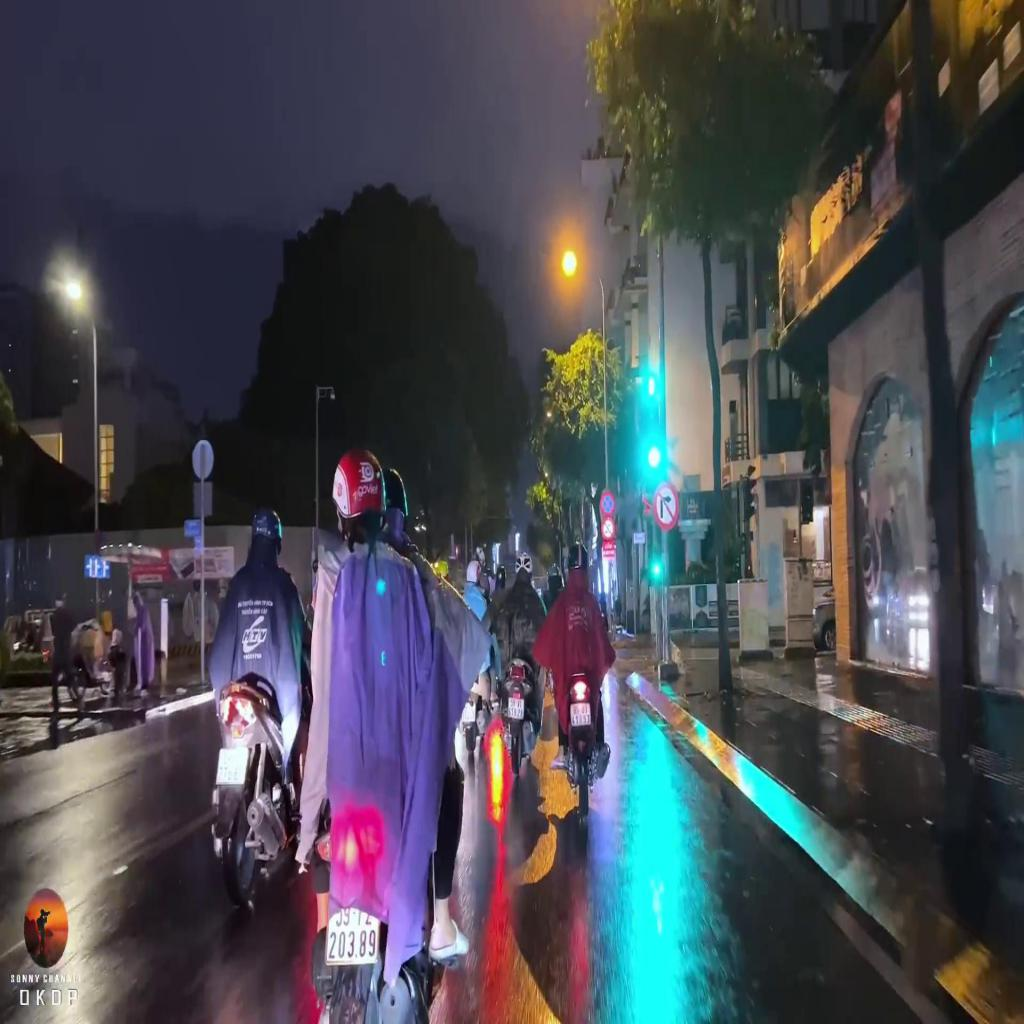cam_dung_xe_va_do_xe: (599, 493, 615, 516)
cam_re_phai: (654, 484, 679, 530)
huong_di_tren_moi_lan_duong_theo_vach_ke_duong: (84, 554, 111, 578)
object: (602, 518, 615, 540)
